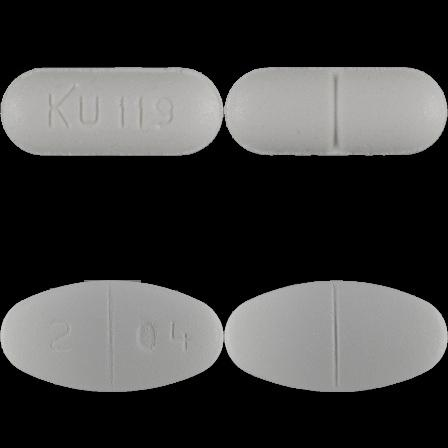60760-037: (0, 0, 224, 224)
